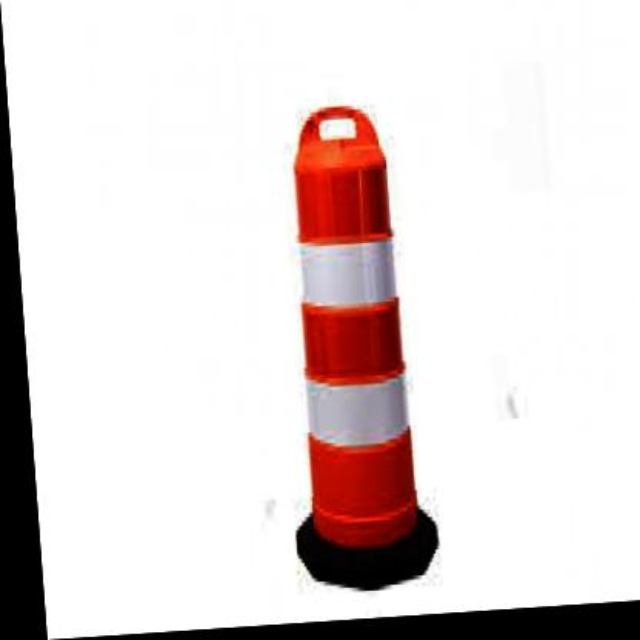obstacle: (277, 109, 413, 545)
